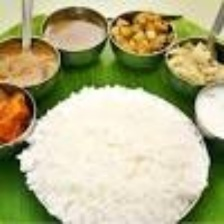rice: (23, 87, 209, 224)
